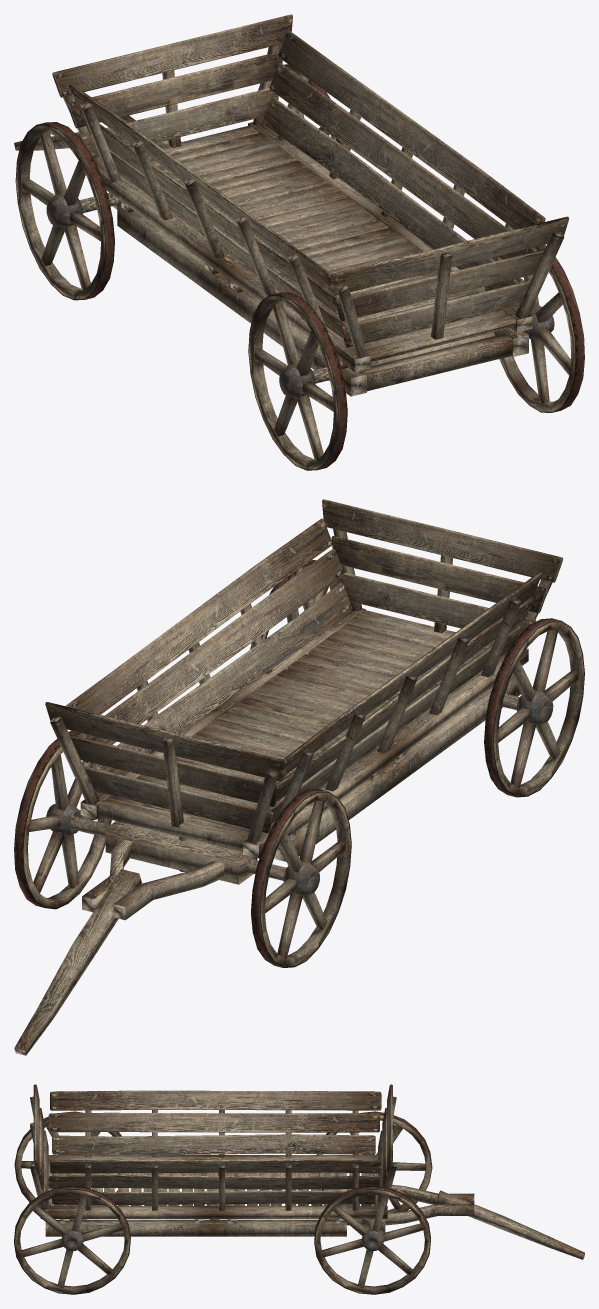
The model's file is old_wooden_wagon.glb.
3 views of the same model, one above another, from view 1: azimuth 30°, elevation 25°; view 2: azimuth 150°, elevation 25°; view 3: azimuth 270°, elevation 25° (orthographic). The views are drawn at different scales.
Visible parts, largest first — view 1: defaultobject; view 2: defaultobject; view 3: defaultobject.
Part boxes in pixels (x1,y1,x2,y2): defaultobject: [14, 14, 584, 470]; defaultobject: [14, 499, 584, 1055]; defaultobject: [14, 1084, 584, 1294].
Bounding box in the file's own units: 17.57 × 13.64 × 51.25.
Materials: 1 (1 with a texture image).
